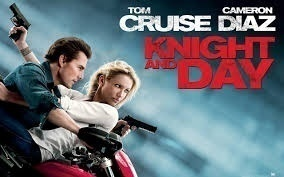pistol: (111, 114, 161, 141), (7, 1, 31, 46)
